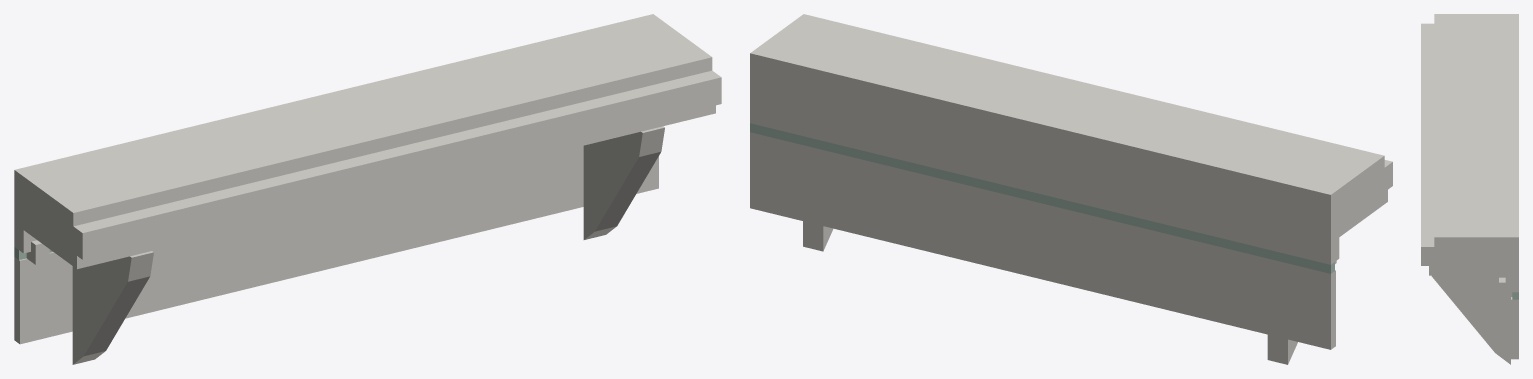
The model's file is cornice_e.glb.
The picture shows the model from 3 angles, left to right: view 1: azimuth 30°, elevation 25°; view 2: azimuth 150°, elevation 25°; view 3: azimuth 270°, elevation 25°; orthographic projection. The views are drawn at different scales.
Parts seen in each view (by area): view 1: cornice_e_trim; view 2: cornice_e_trim, cornice_e_acc_e; view 3: cornice_e_trim.
Part boxes in pixels (x1,y1,x2,y2): cornice_e_trim: (14, 14, 721, 364); cornice_e_trim: (750, 14, 1392, 364); cornice_e_acc_e: (750, 123, 1334, 273); cornice_e_trim: (1421, 14, 1518, 364).
Size of the model in its own units: 2 by 0.61 by 0.37.
